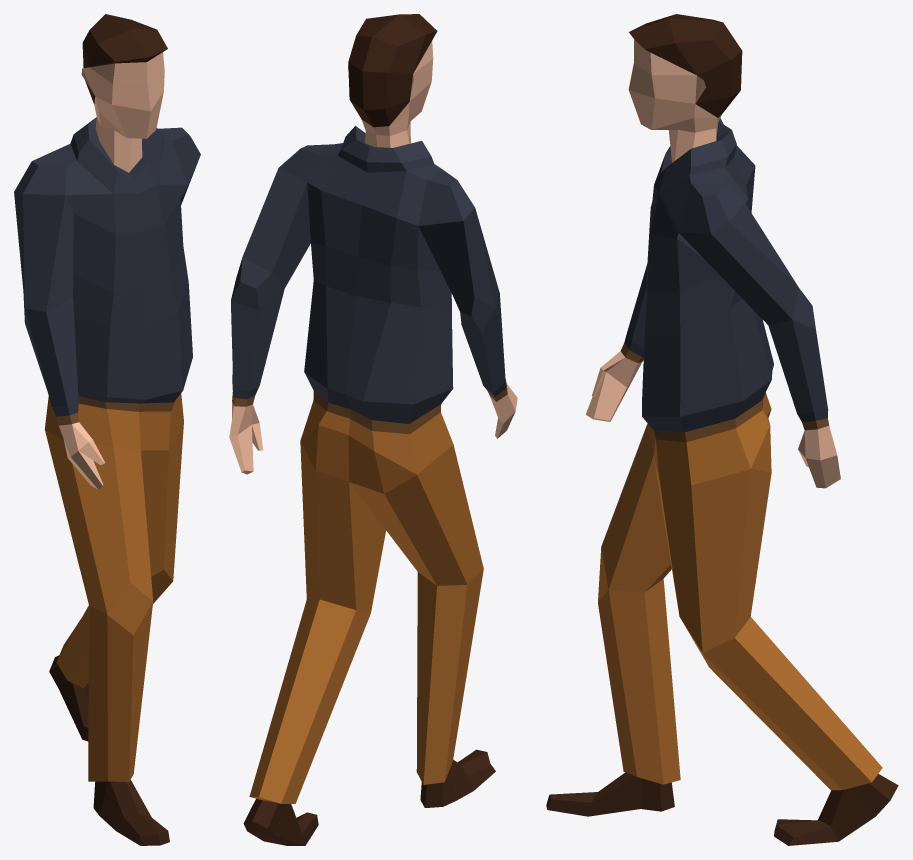
The model's file is AutumnManA.004.glb.
3 views of the same model, side by side, from view 1: azimuth 30°, elevation 25°; view 2: azimuth 150°, elevation 25°; view 3: azimuth 270°, elevation 25° (orthographic). The views are drawn at different scales.
Parts seen in each view (by area): view 1: AutumnManA.004; view 2: AutumnManA.004; view 3: AutumnManA.004.
Boxes of the visible parts, box(x1,y1,x2,y2) form: AutumnManA.004: box(14, 14, 200, 845); AutumnManA.004: box(229, 14, 517, 845); AutumnManA.004: box(546, 14, 898, 845).
Size of the model in its own units: 0.4673 by 1.72 by 0.6804.
1 material, 1 textured.
